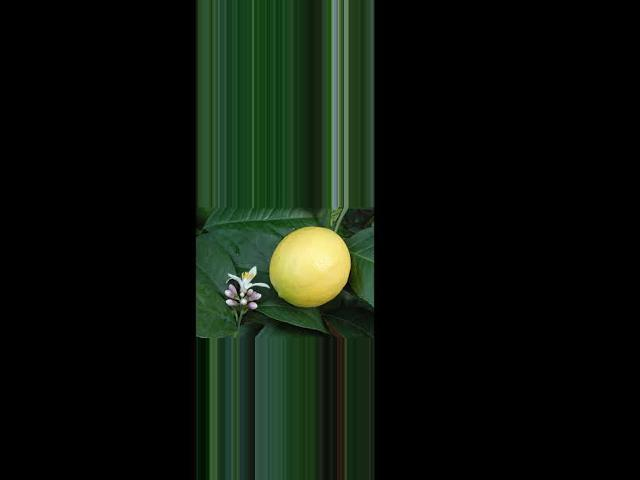lemon: (260, 216, 361, 313)
